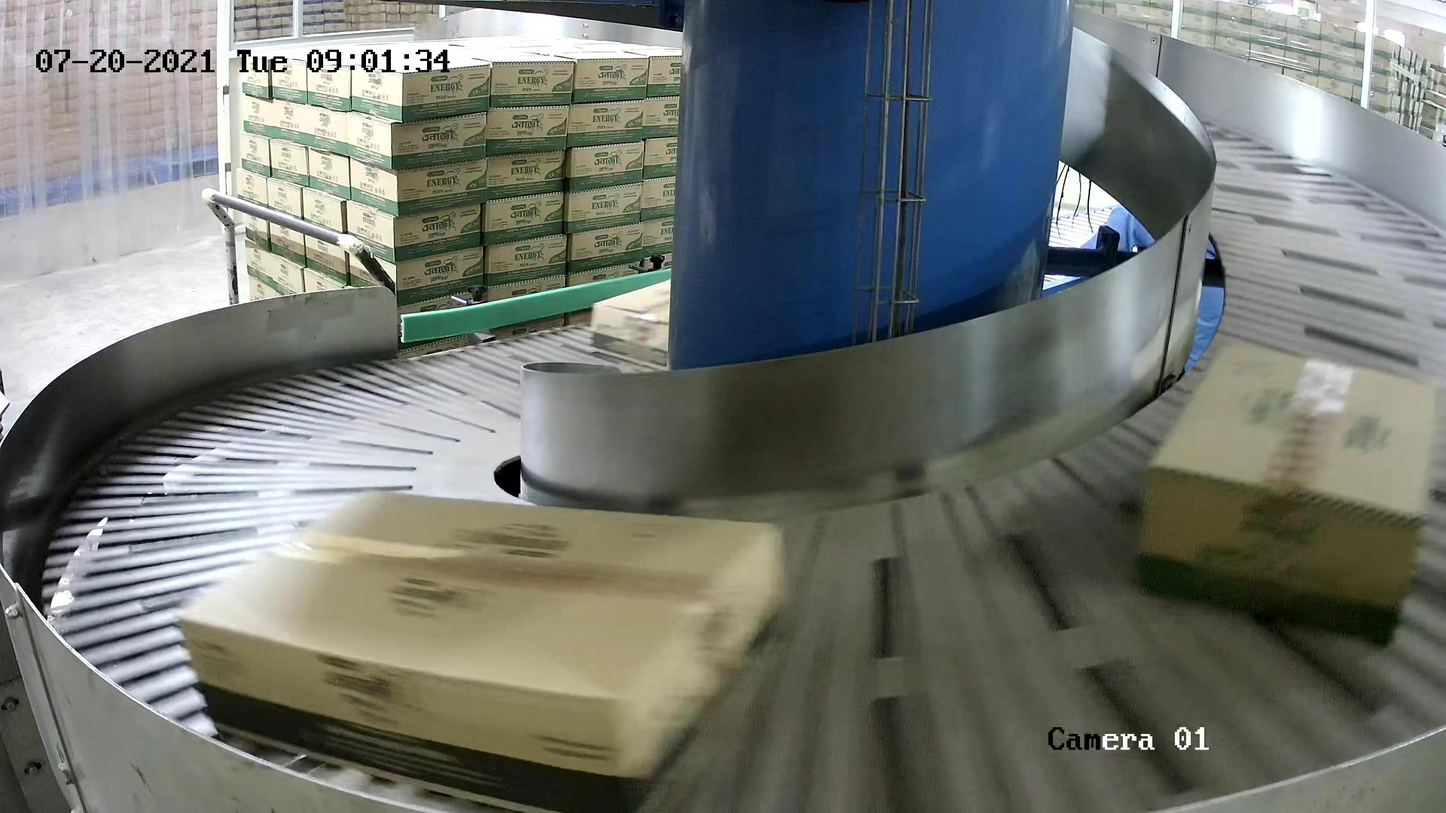Box: (174, 487, 792, 813), (1131, 339, 1442, 650), (592, 265, 751, 367)
